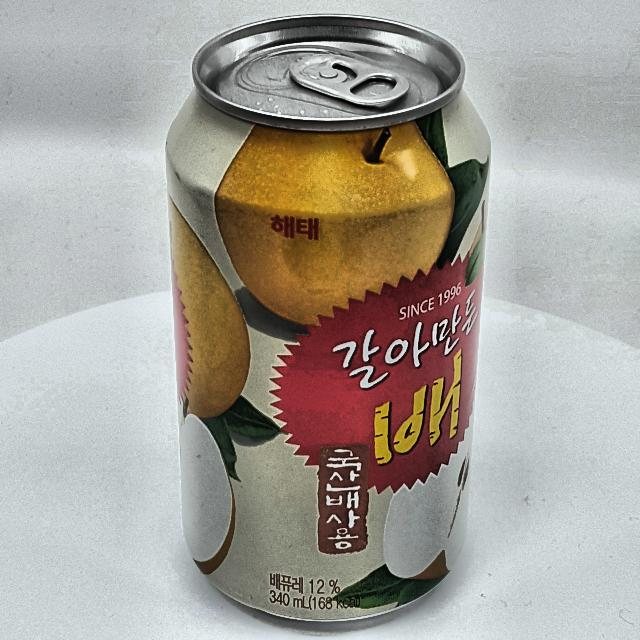galamandeunbae: (166, 16, 490, 621)
